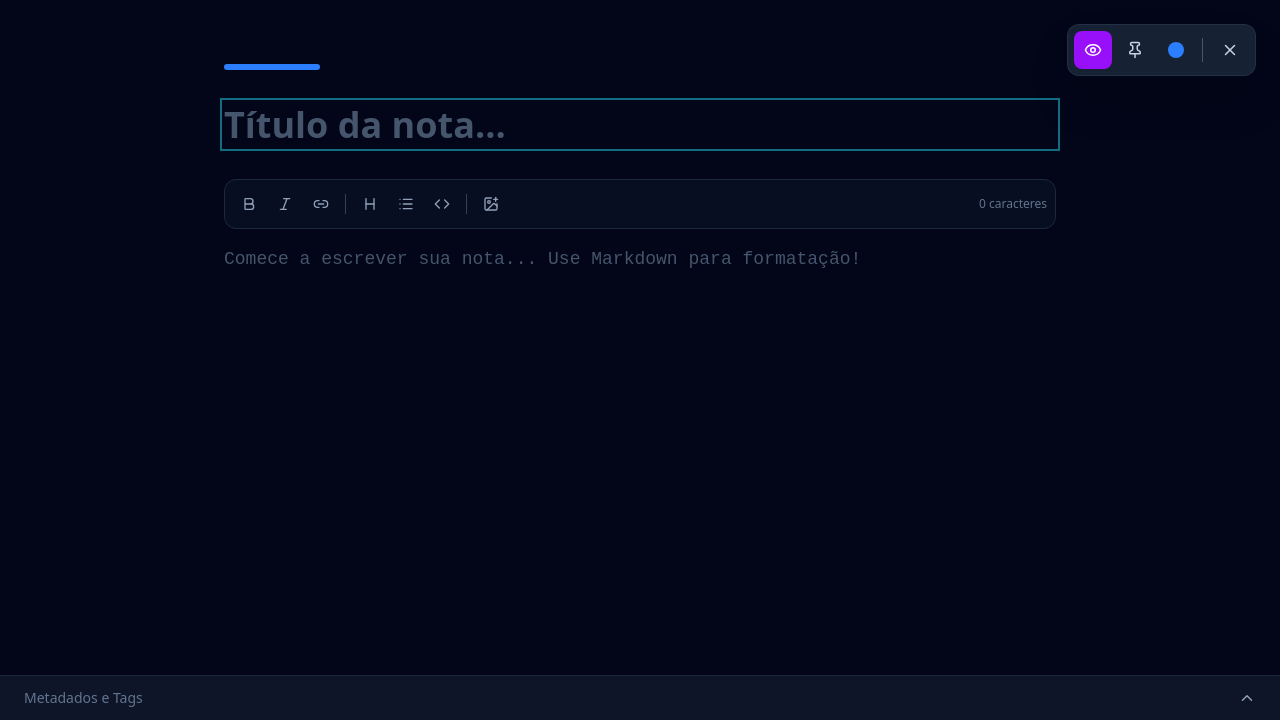
NoteEditor › Mode Toggle › toggle button is clickable and changes mode
Click to toggle
Step 1. Click the button titled "Ver formatado" → [1093, 50], box x1=1074 y1=31 x2=1112 y2=69
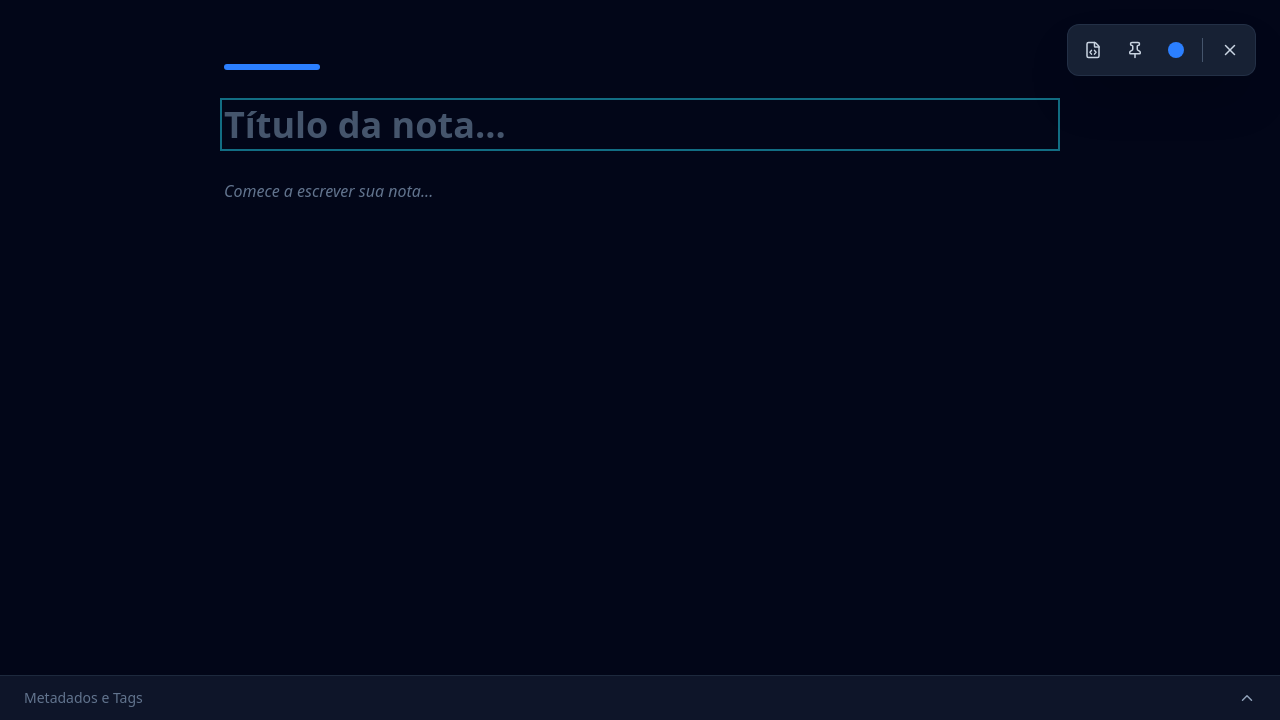
Check: the button titled "Ver código fonte" is shown, box x1=1074 y1=31 x2=1112 y2=69
